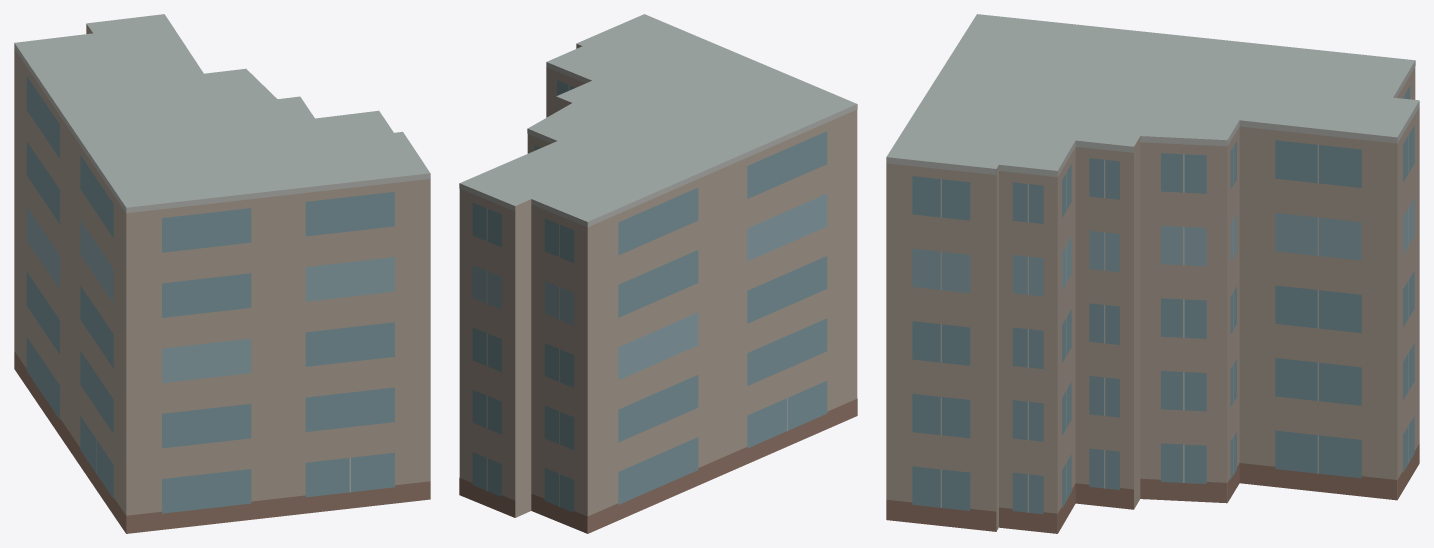
Rendered from survey-upis-32593648.glb.
3 views of the same model, side by side, from view 1: azimuth 30°, elevation 25°; view 2: azimuth 150°, elevation 25°; view 3: azimuth 270°, elevation 25° (orthographic). The views are drawn at different scales.
Visible parts, largest first — view 1: survey-upis-32593648.tmp; view 2: survey-upis-32593648.tmp; view 3: survey-upis-32593648.tmp.
Part boxes in pixels (x1,y1,x2,y2): survey-upis-32593648.tmp: (14, 14, 430, 533); survey-upis-32593648.tmp: (459, 14, 857, 533); survey-upis-32593648.tmp: (886, 14, 1419, 533).
Size of the model in its own units: 13.37 by 14.4 by 19.19.
